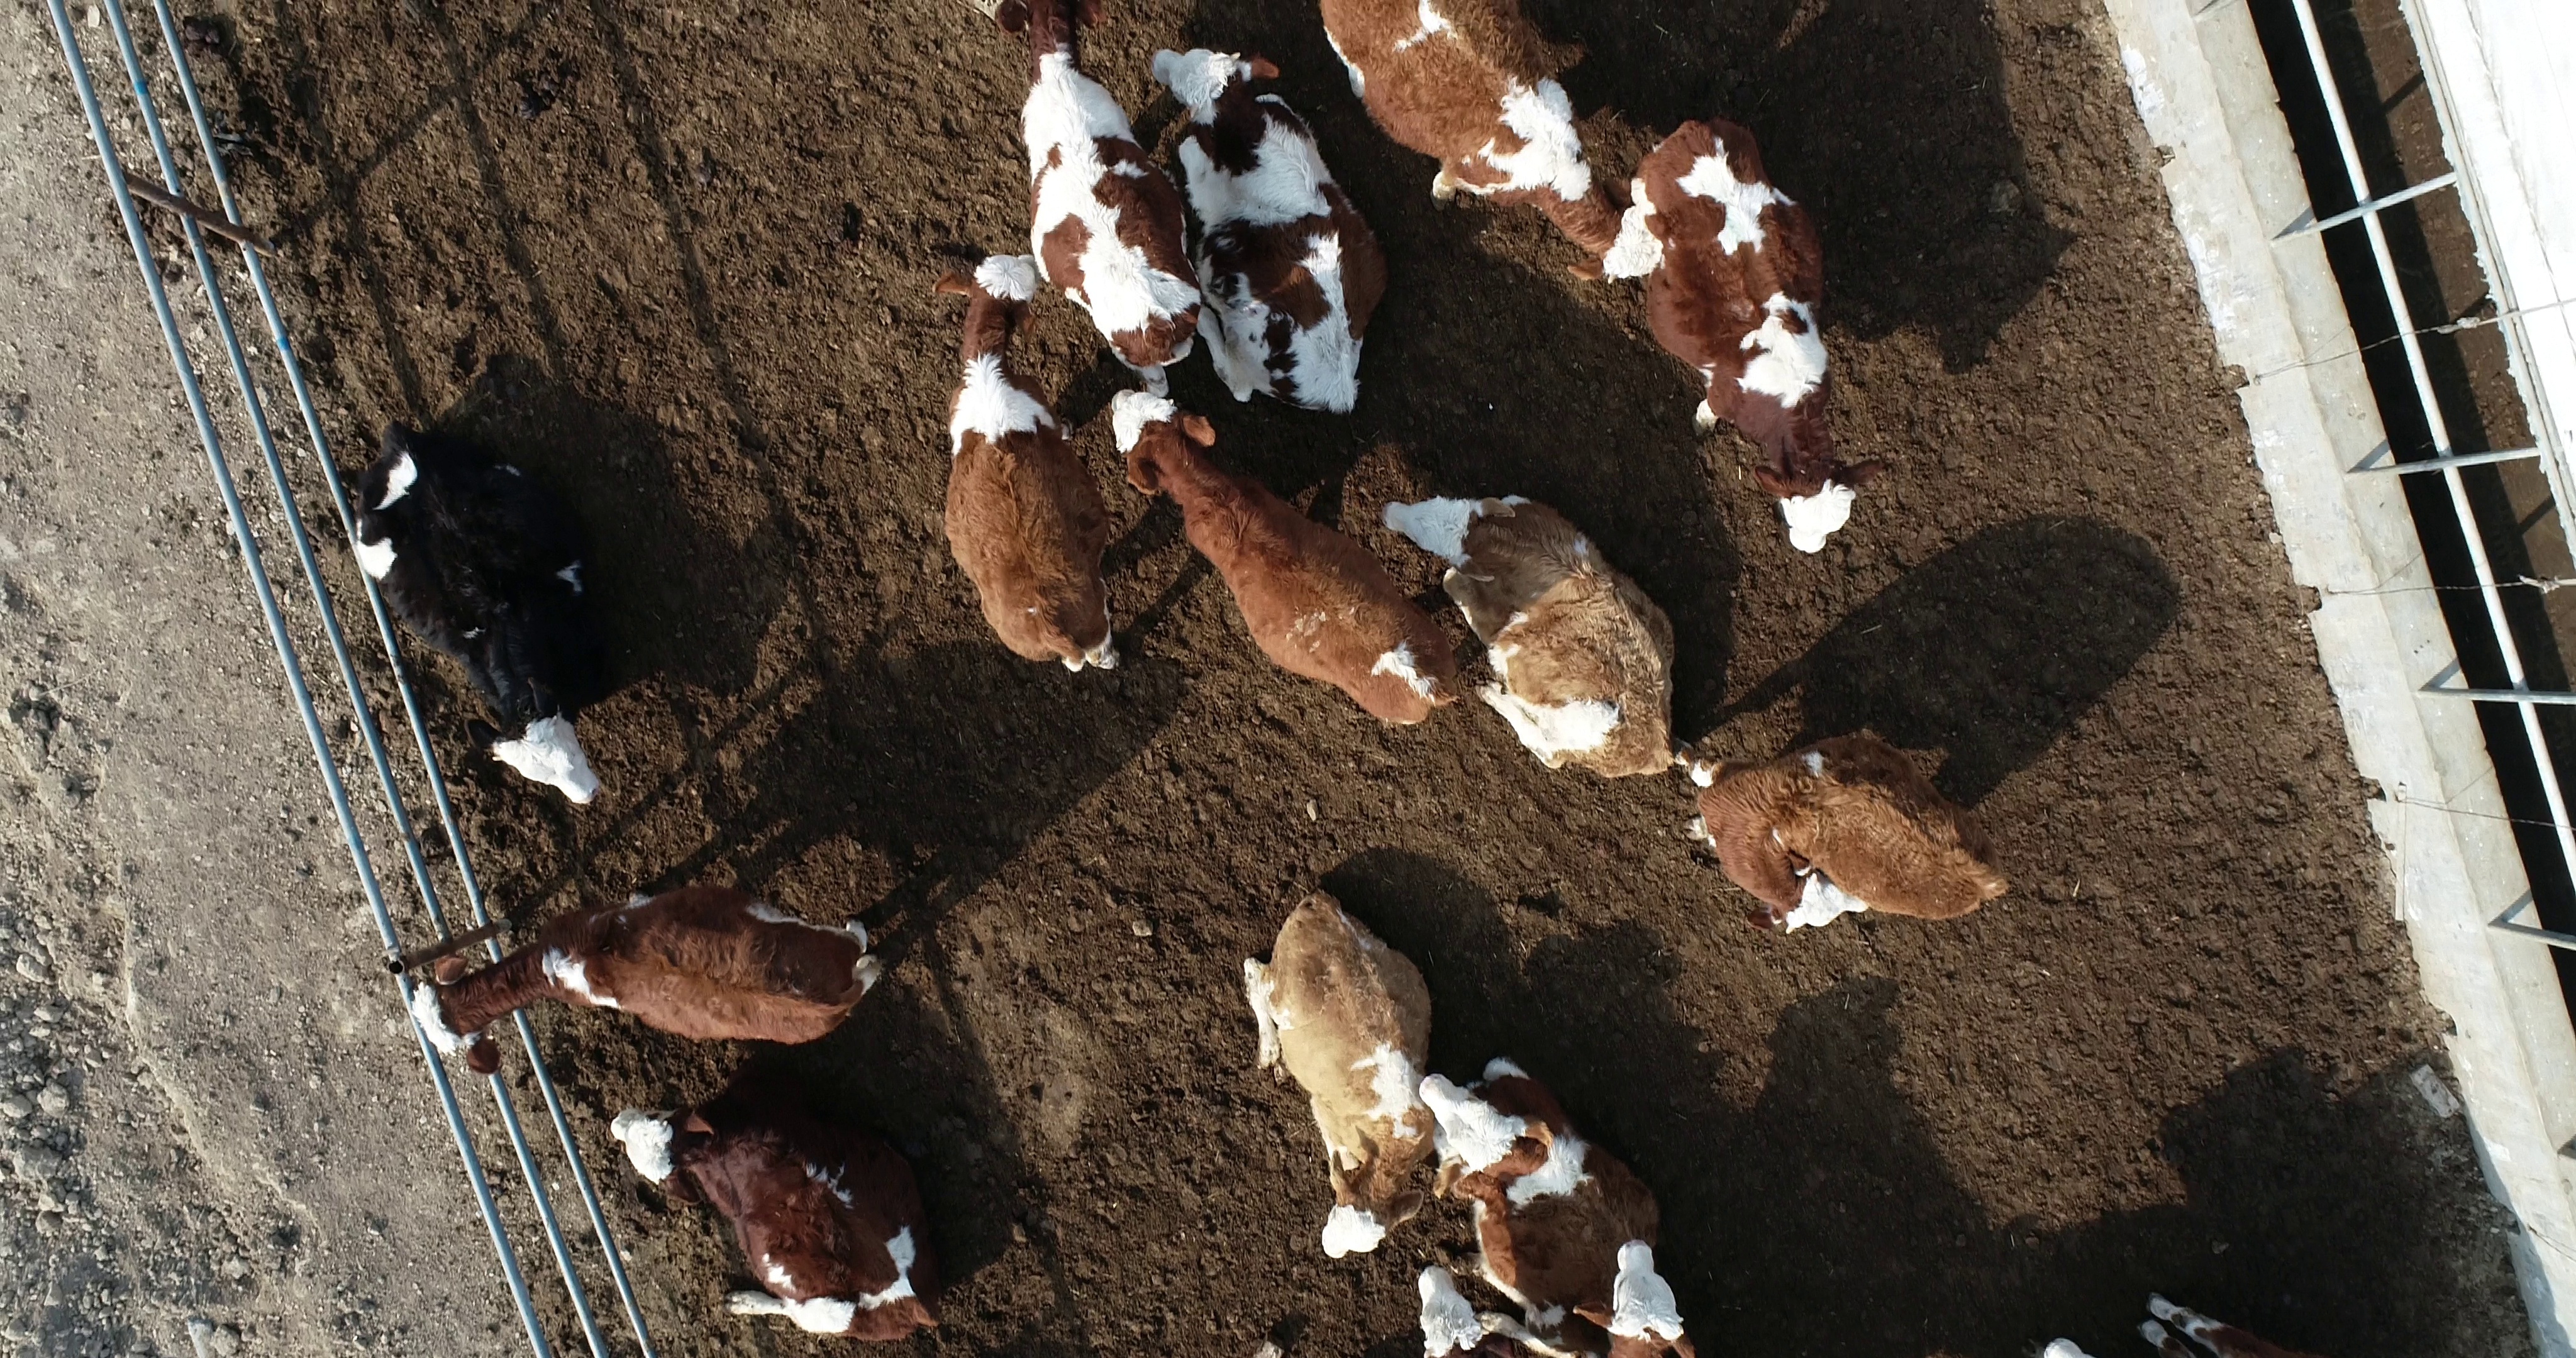cattle: (1106, 385, 1467, 733), (1629, 104, 1896, 559), (342, 412, 629, 811), (400, 878, 893, 1084), (1152, 41, 1395, 428), (1378, 489, 1699, 782), (605, 1097, 954, 1344), (925, 254, 1126, 680), (1237, 884, 1440, 1263), (992, 5, 1201, 370), (1673, 719, 2012, 935)
